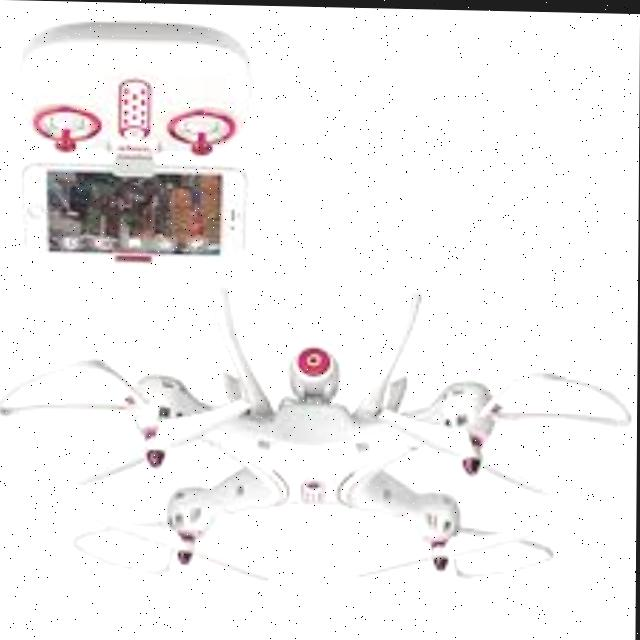drone: (0, 280, 638, 603)
